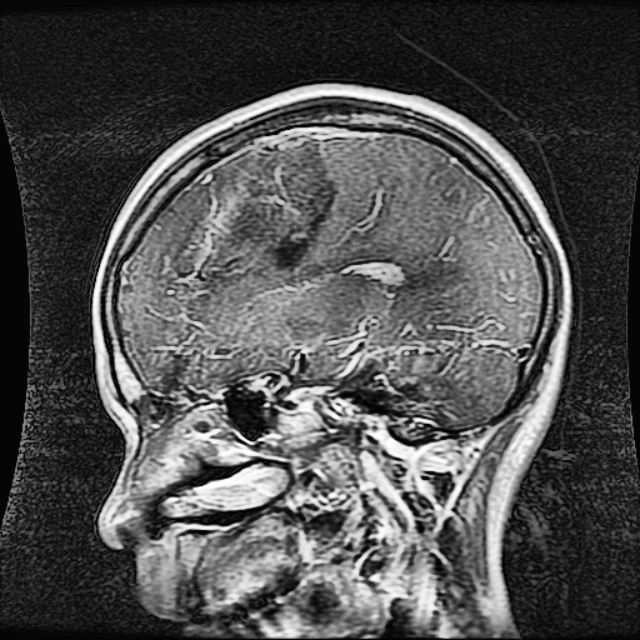Meningioma: (210, 144, 335, 268)
